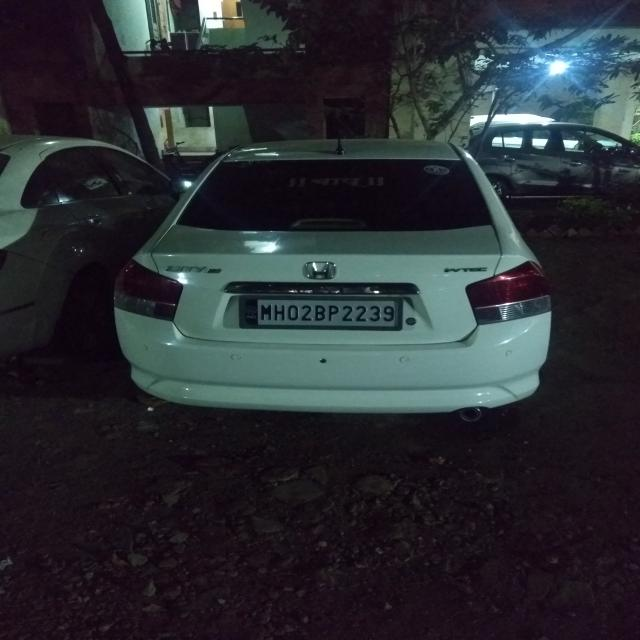Number-Plate: (248, 295, 398, 329)
